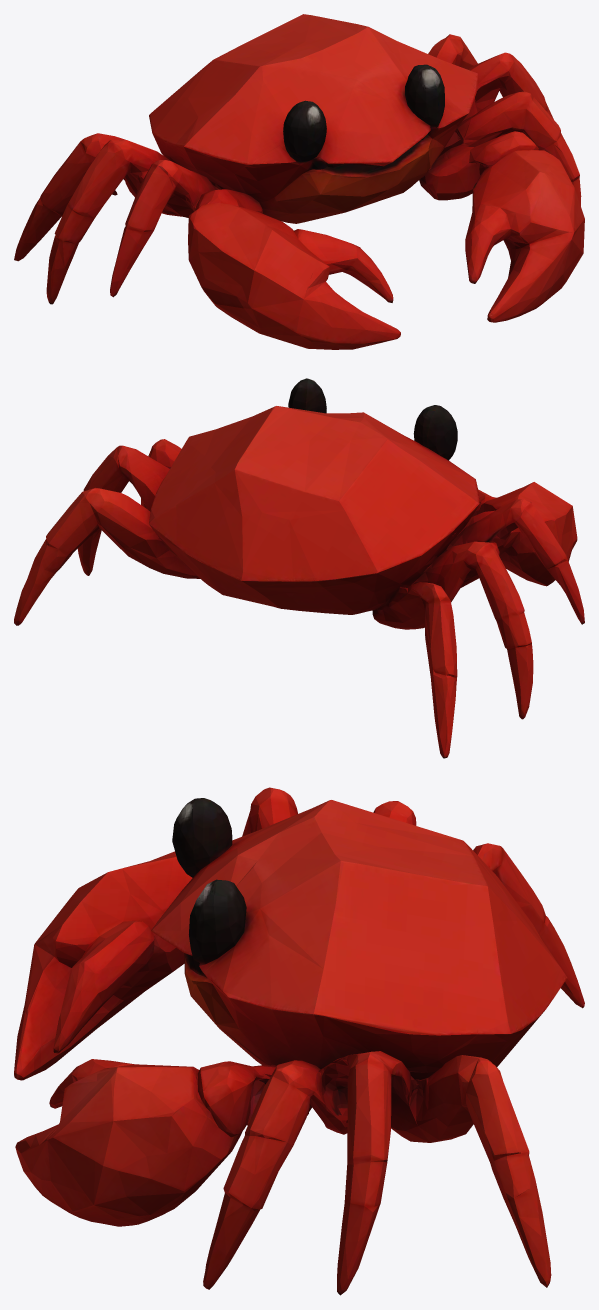
Rendered from crab.glb.
The picture shows the model from 3 angles, top to bottom: view 1: azimuth 30°, elevation 25°; view 2: azimuth 150°, elevation 25°; view 3: azimuth 270°, elevation 25°; orthographic projection. The views are drawn at different scales.
Parts seen in each view (by area): view 1: world; view 2: world; view 3: world.
Boxes of the visible parts, bbox=[...] form: world: bbox=[14, 14, 584, 349]; world: bbox=[14, 378, 584, 758]; world: bbox=[14, 787, 584, 1295].
Bounding box in the file's own units: 0.9939 × 0.4605 × 0.7329.
1 material, 1 textured.
